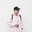face: (12, 6, 20, 17)
